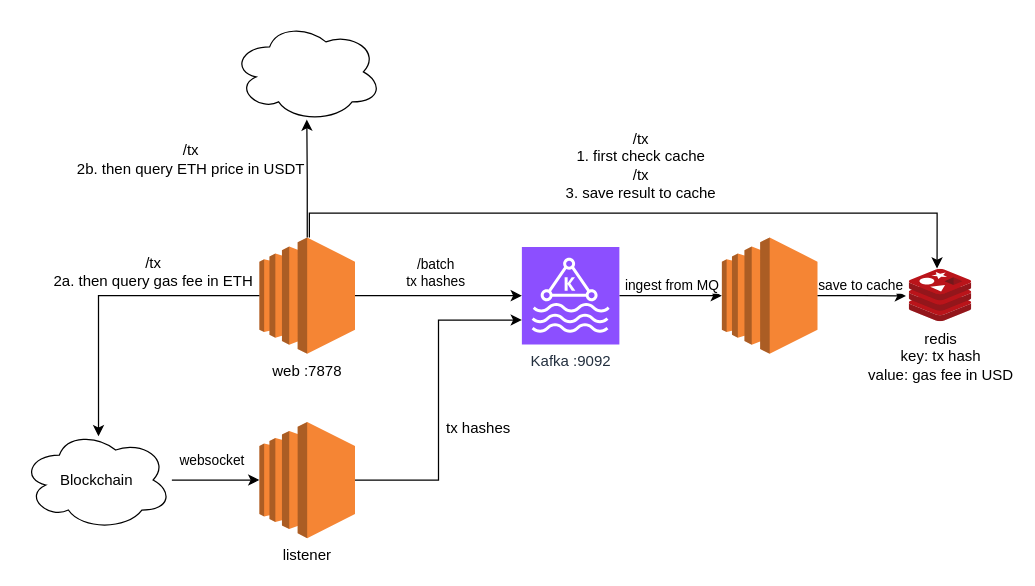
This 1035x586 diagram has some shape labels left out. The centre of each missing label's shape, as x and y in pixels:
"Binance" belongs at pixel 306 71.
"process calculates gas fee in USD" belongs at pixel 769 295.
